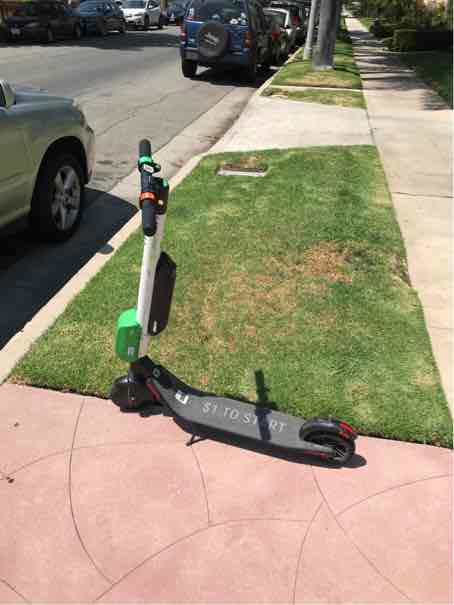scooter: (101, 115, 368, 467)
